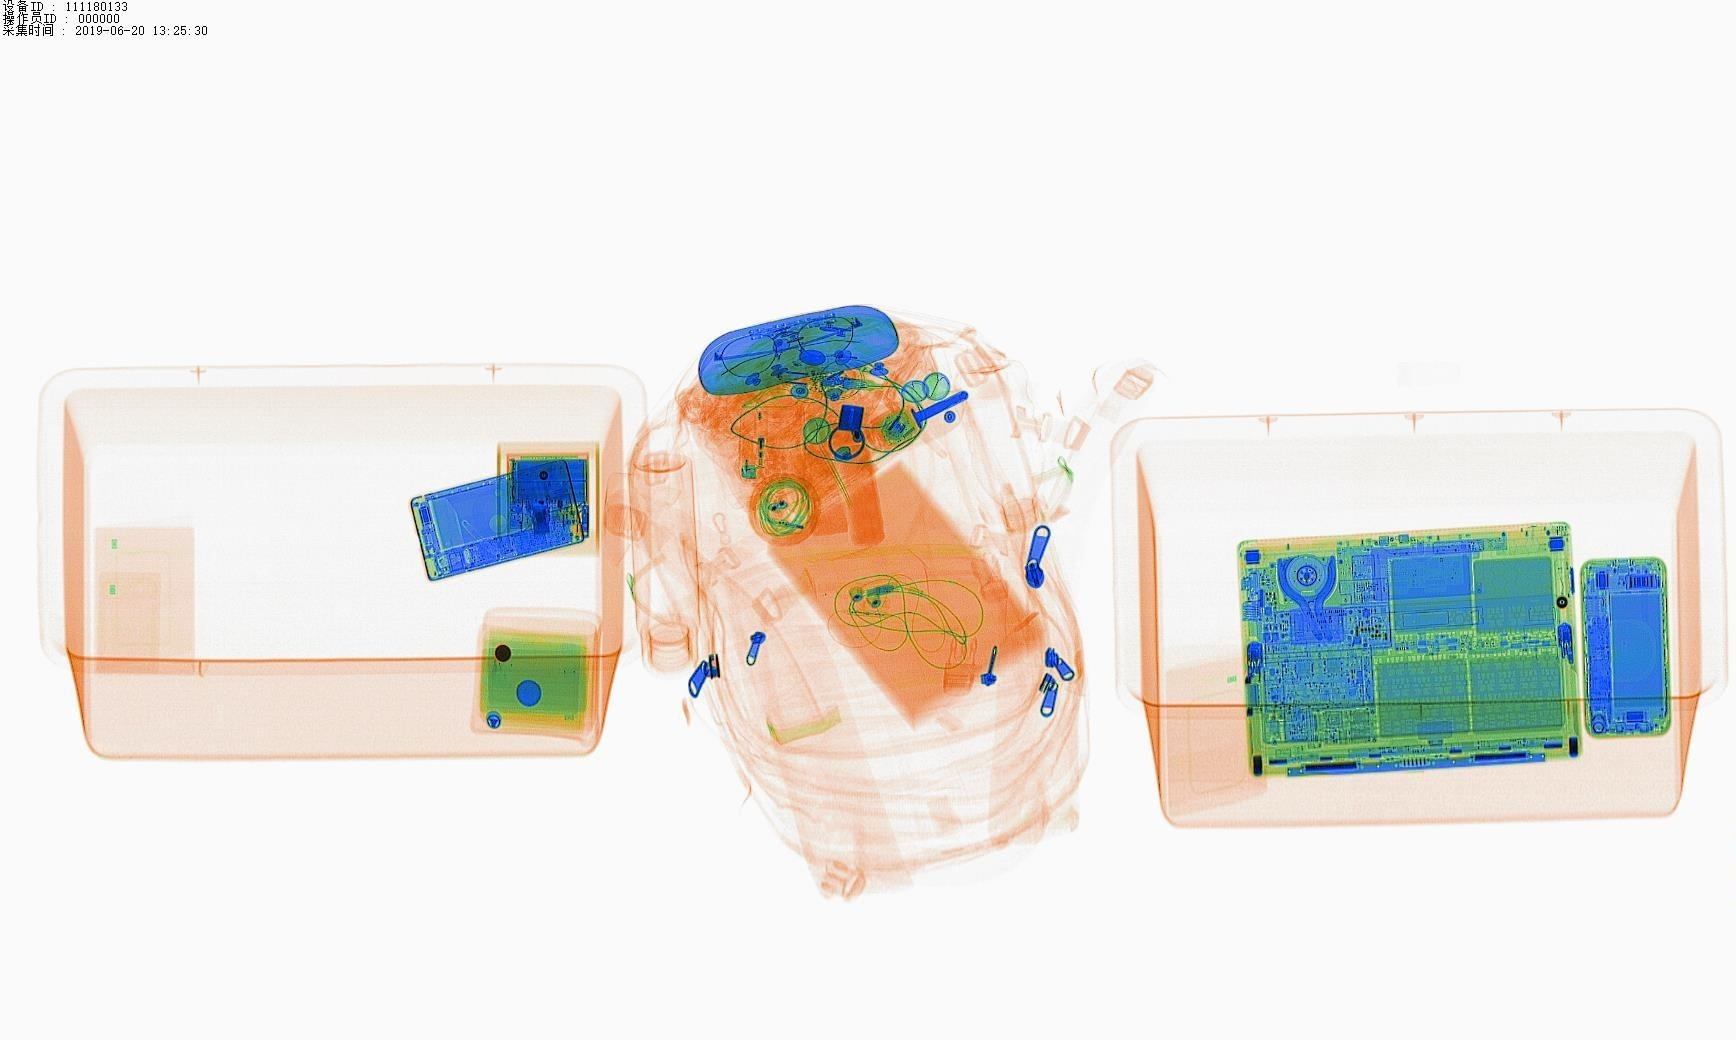NonmetallicFire: (728, 401, 778, 498)
